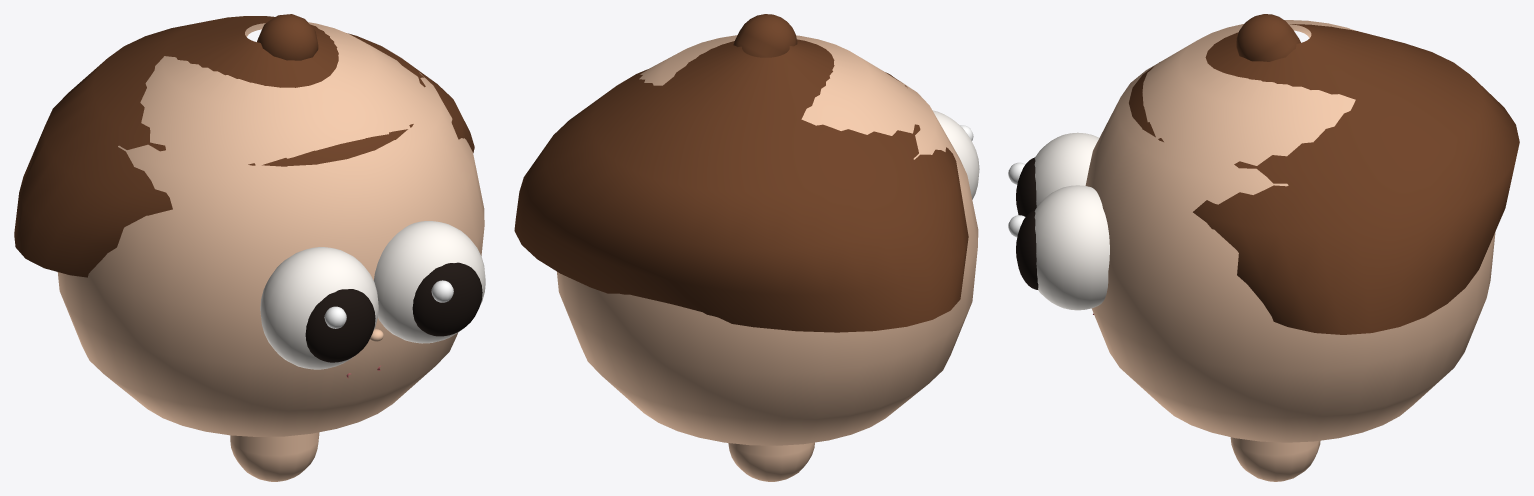
Rendered from hero_kid_v1.glb.
3 renders of one model, left to right at view 1: azimuth 30°, elevation 25°; view 2: azimuth 150°, elevation 25°; view 3: azimuth 270°, elevation 25°, orthographic. The views are drawn at different scales.
Parts seen in each view (by area): view 1: heroSkull, hairShell, kitFace, characterKitHead, tuft_top; view 2: hairShell, heroSkull, characterKitHead, tuft_top, kitFace; view 3: heroSkull, hairShell, kitFace, characterKitHead, tuft_top.
Part boxes in pixels (x1=…): heroSkull: x1=57, y1=22, x2=484, y2=436; hairShell: x1=14, y1=16, x2=474, y2=277; kitFace: x1=260, y1=221, x2=485, y2=378; characterKitHead: x1=230, y1=432, x2=319, y2=481; tuft_top: x1=257, y1=14, x2=318, y2=60; hairShell: x1=514, y1=39, x2=968, y2=332; heroSkull: x1=557, y1=35, x2=978, y2=445; characterKitHead: x1=728, y1=442, x2=814, y2=481; tuft_top: x1=733, y1=14, x2=797, y2=57; kitFace: x1=932, y1=110, x2=979, y2=199; heroSkull: x1=1085, y1=20, x2=1495, y2=442; hairShell: x1=1129, y1=24, x2=1519, y2=334; kitFace: x1=1008, y1=132, x2=1109, y2=314; characterKitHead: x1=1230, y1=437, x2=1320, y2=481; tuft_top: x1=1236, y1=14, x2=1300, y2=61.
Bounding box in the file's own units: 1.77 × 1.81 × 1.81.
